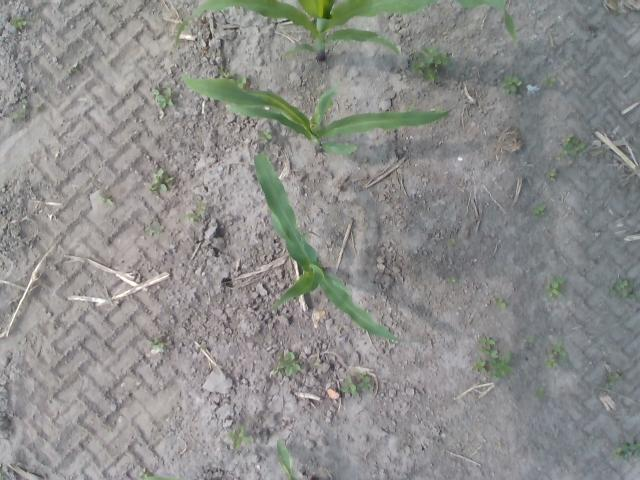Maize: (253, 153, 427, 344), (180, 73, 452, 152), (184, 0, 520, 62), (277, 438, 295, 480), (144, 476, 178, 480)
Weeds: (413, 48, 451, 80), (490, 352, 514, 378), (276, 352, 299, 374), (562, 132, 584, 155), (150, 169, 172, 191), (154, 86, 174, 108), (228, 429, 250, 449), (613, 444, 640, 460), (546, 278, 566, 296), (501, 76, 521, 94), (187, 205, 206, 222), (552, 340, 568, 360), (615, 277, 631, 297), (341, 378, 358, 396), (11, 12, 26, 28), (472, 358, 486, 372), (606, 372, 620, 385), (150, 338, 164, 350), (100, 193, 114, 205), (482, 336, 495, 348), (358, 372, 370, 384), (259, 130, 271, 142), (546, 74, 556, 88), (547, 168, 557, 180), (535, 204, 546, 214), (145, 225, 155, 234), (490, 350, 499, 359), (534, 390, 544, 398), (496, 298, 506, 306), (138, 468, 148, 476), (10, 110, 18, 120), (546, 360, 556, 368), (479, 347, 490, 354), (238, 77, 246, 86), (70, 68, 80, 75), (310, 359, 318, 367), (626, 293, 634, 299), (556, 154, 563, 160), (446, 277, 454, 282), (527, 336, 533, 342), (450, 239, 456, 244)
